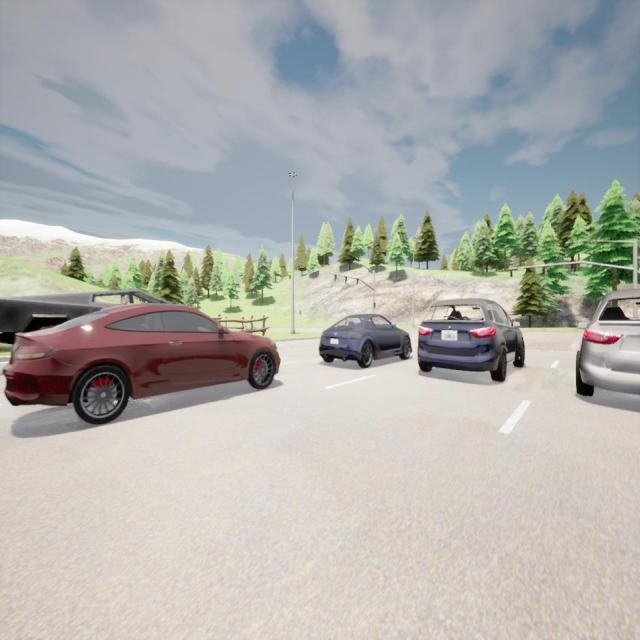Vehicle: (6, 301, 281, 420), (417, 298, 525, 382), (0, 288, 172, 335), (575, 287, 640, 397), (318, 314, 412, 368)
traffic_light: (542, 266, 545, 275), (573, 263, 576, 272), (345, 276, 347, 285), (510, 269, 512, 277), (334, 275, 336, 282), (356, 279, 358, 286), (374, 303, 376, 309)
